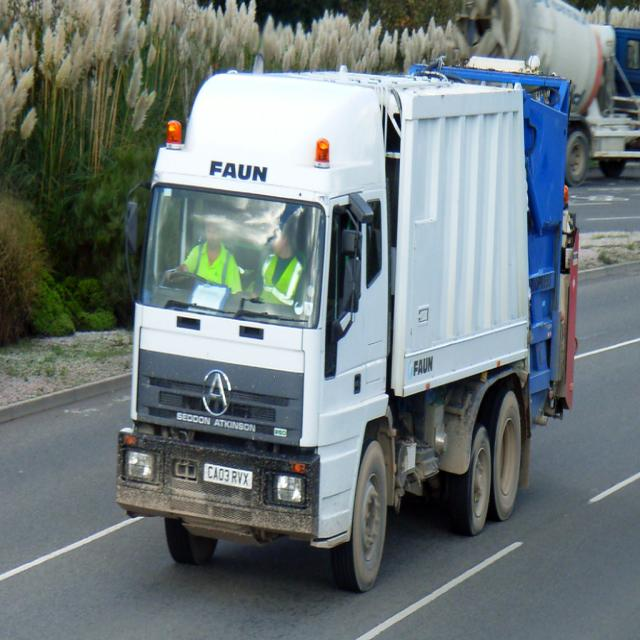Heavy Duty Truck: (110, 38, 584, 608)
